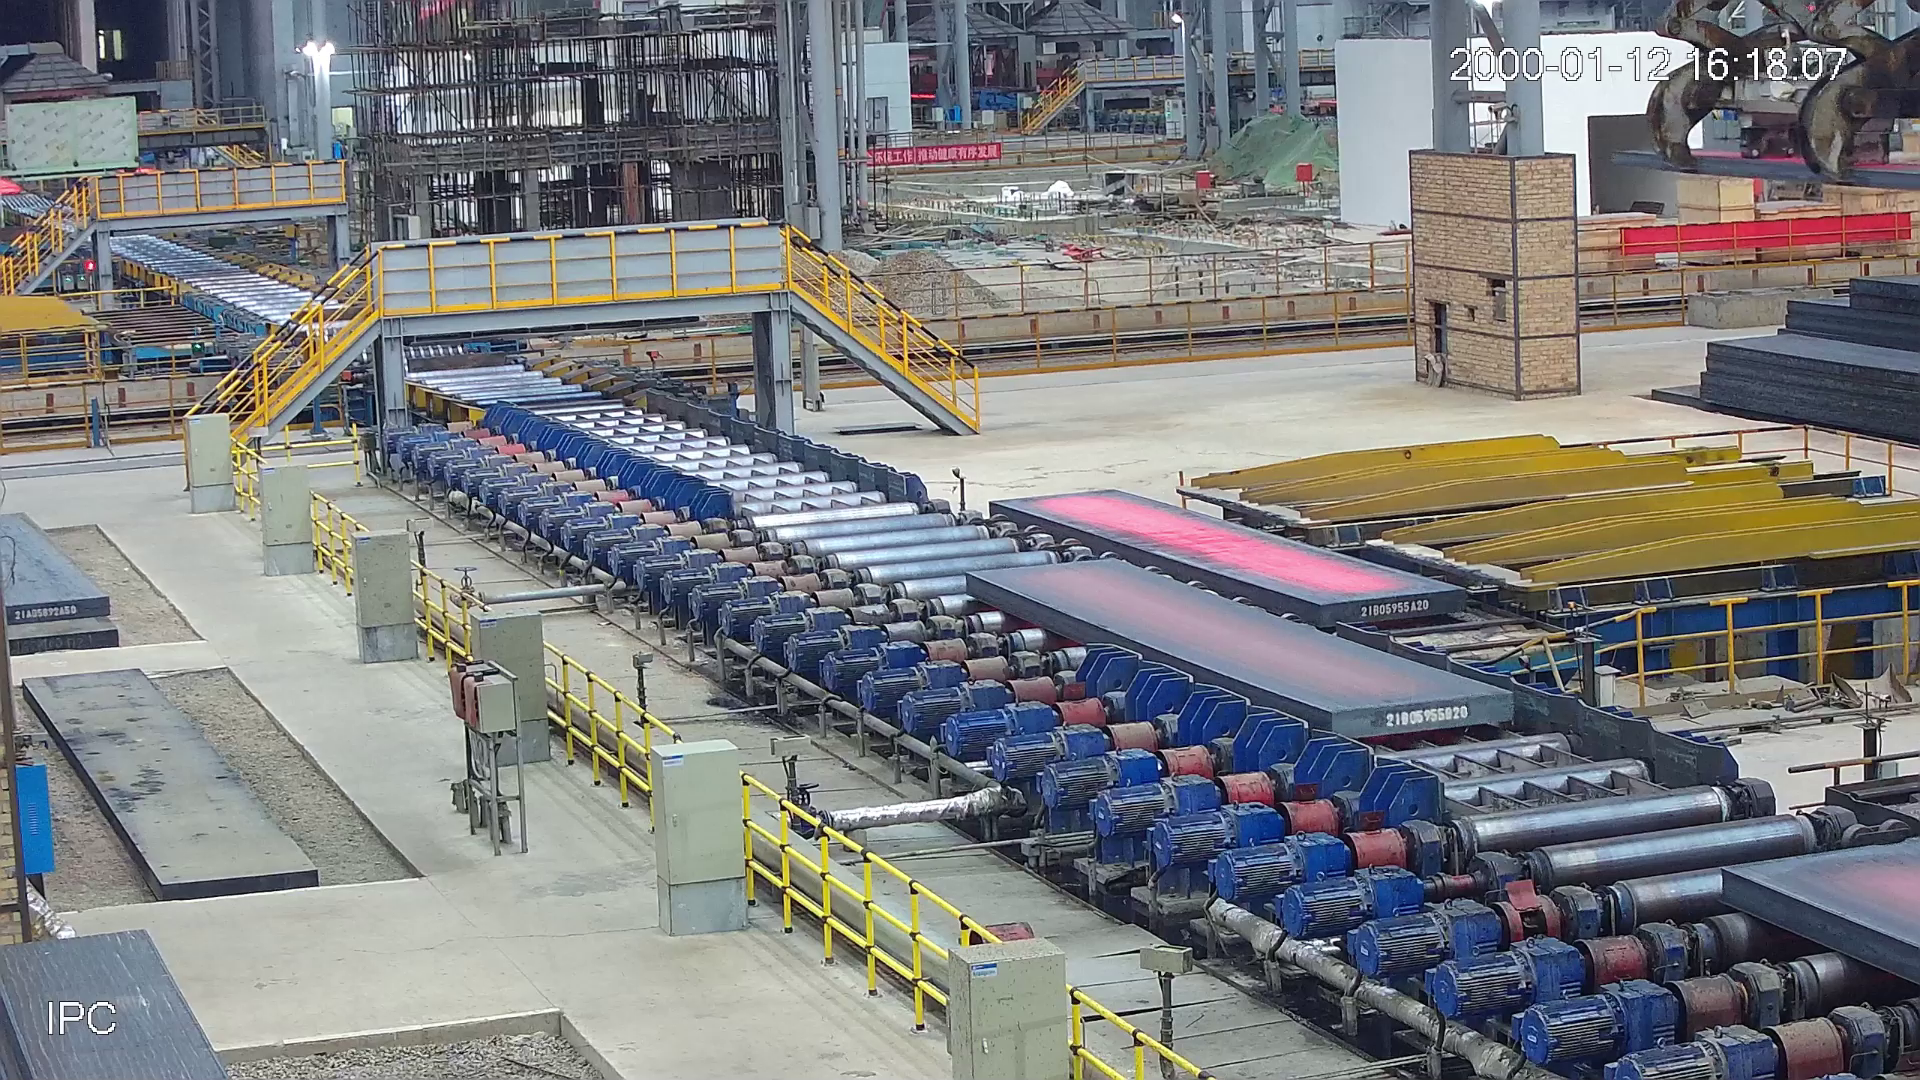slab: (965, 568, 1513, 738), (988, 498, 1465, 622)
